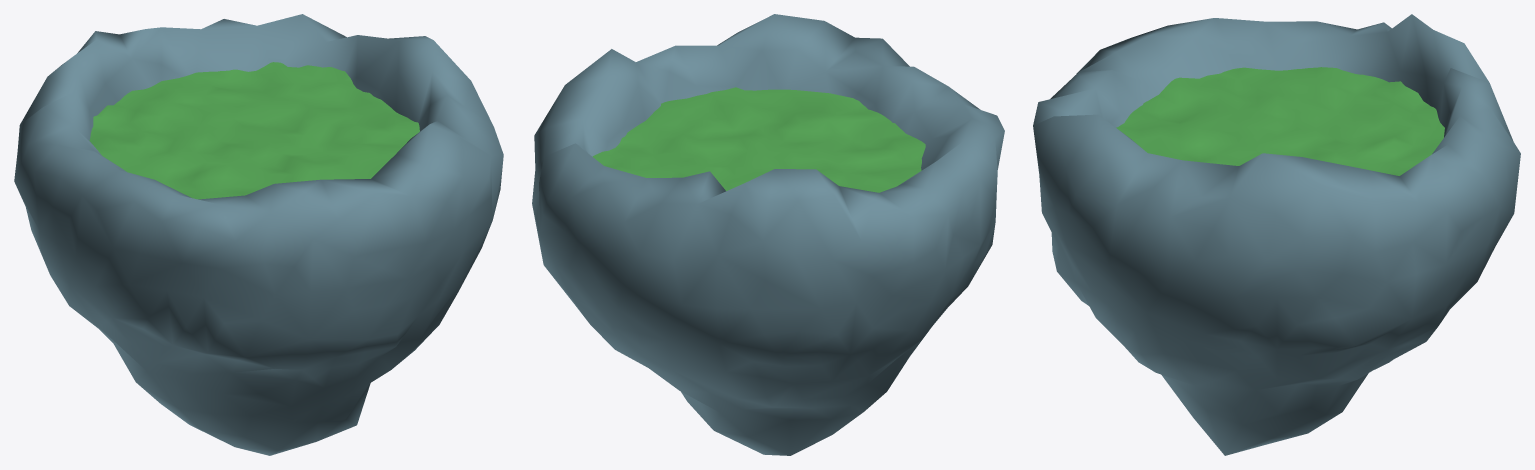
Rendered from island.001.glb.
The picture shows the model from 3 angles, left to right: view 1: azimuth 30°, elevation 25°; view 2: azimuth 150°, elevation 25°; view 3: azimuth 270°, elevation 25°; orthographic projection. The views are drawn at different scales.
Visible parts, largest first — view 1: island.001; view 2: island.001; view 3: island.001.
Boxes of the visible parts, x1,y1,x2,y2 form: island.001: [14, 14, 503, 455]; island.001: [532, 14, 1004, 455]; island.001: [1033, 14, 1520, 455].
Bounding box in the file's own units: 48.73 × 40.43 × 49.29.
